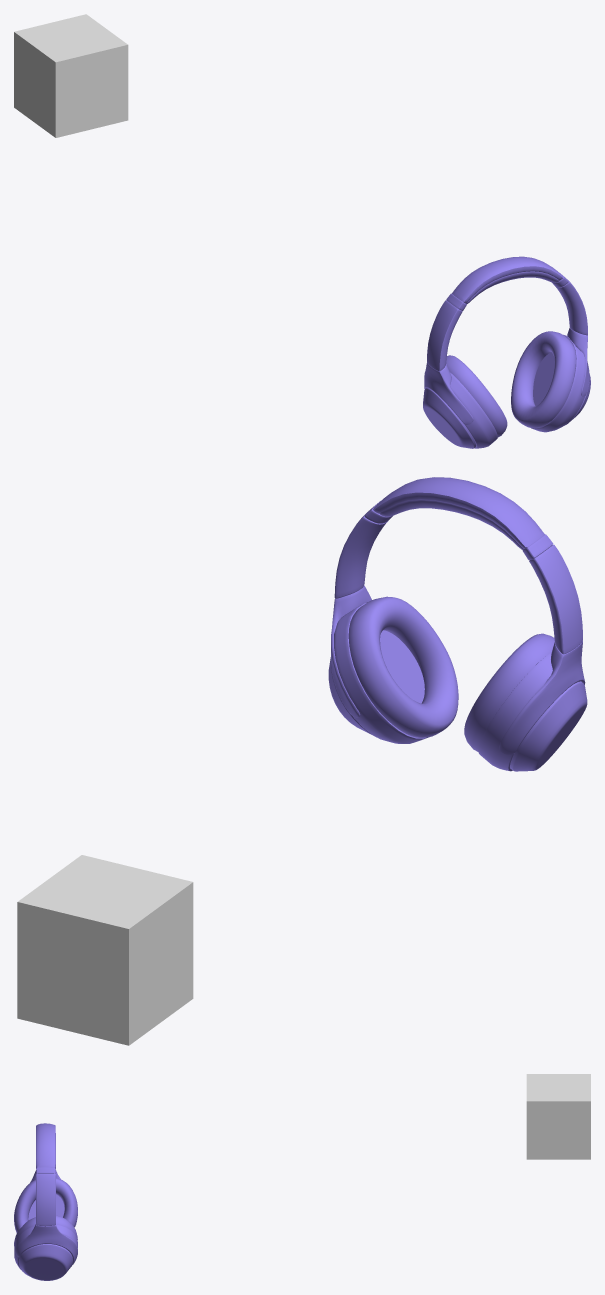
The model's file is ThreejsScene (9).glb.
3 views of the same model, one above another, from view 1: azimuth 30°, elevation 25°; view 2: azimuth 150°, elevation 25°; view 3: azimuth 270°, elevation 25° (orthographic). The views are drawn at different scales.
Parts seen in each view (by area): view 1: уховнешнее001, object 1; view 2: уховнешнее001, object 1; view 3: уховнешнее001, object 1.
Part boxes in pixels (x1,y1,x2,y2): уховнешнее001: (423,256,590,448); object 1: (14,14,128,137); уховнешнее001: (328,477,587,771); object 1: (17,855,193,1045); уховнешнее001: (14,1123,77,1280); object 1: (526,1074,590,1159).
Bounding box in the file's own units: 6.01 × 4.74 × 17.92.
